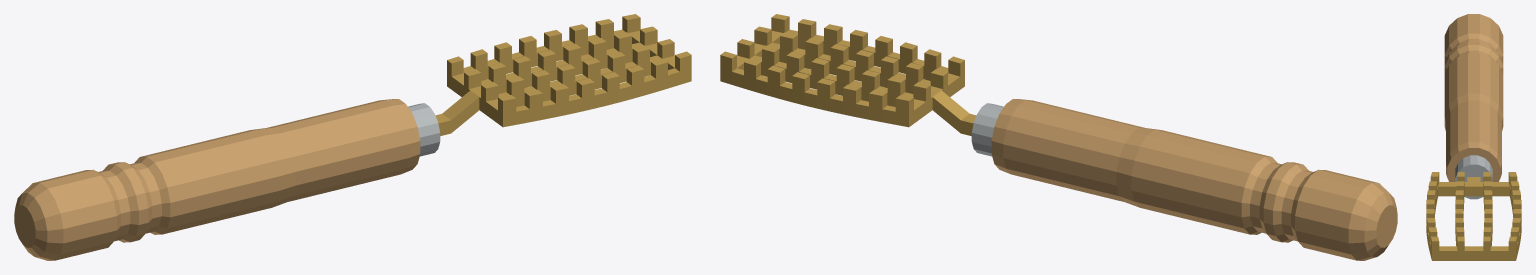
3 views of the same model, side by side, from view 1: azimuth 30°, elevation 25°; view 2: azimuth 150°, elevation 25°; view 3: azimuth 270°, elevation 25° (orthographic). The views are drawn at different scales.
Parts seen in each view (by area): view 1: 01_Wood_handle_two_annular_grooves, 04_Integral_four_rail_head_three_through_slots_and_short_tee, 02_Metal_collar, 03_Bent_metal_neck; view 2: 01_Wood_handle_two_annular_grooves, 04_Integral_four_rail_head_three_through_slots_and_short_tee, 02_Metal_collar, 03_Bent_metal_neck; view 3: 01_Wood_handle_two_annular_grooves, 04_Integral_four_rail_head_three_through_slots_and_short_tee, 02_Metal_collar, 03_Bent_metal_neck.
Boxes of the visible parts, <box> form: 01_Wood_handle_two_annular_grooves: <box>14,99,420,260</box>; 04_Integral_four_rail_head_three_through_slots_and_short_tee: <box>447,14,691,127</box>; 02_Metal_collar: <box>408,103,440,156</box>; 03_Bent_metal_neck: <box>435,90,479,135</box>; 01_Wood_handle_two_annular_grooves: <box>991,99,1397,260</box>; 04_Integral_four_rail_head_three_through_slots_and_short_tee: <box>720,14,964,127</box>; 02_Metal_collar: <box>971,103,1003,156</box>; 03_Bent_metal_neck: <box>932,90,976,135</box>; 01_Wood_handle_two_annular_grooves: <box>1444,14,1503,181</box>; 04_Integral_four_rail_head_three_through_slots_and_short_tee: <box>1426,172,1521,260</box>; 02_Metal_collar: <box>1455,155,1492,199</box>; 03_Bent_metal_neck: <box>1467,177,1480,181</box>.
Bounding box in the file's own units: 0.203 × 0.022 × 0.035.
